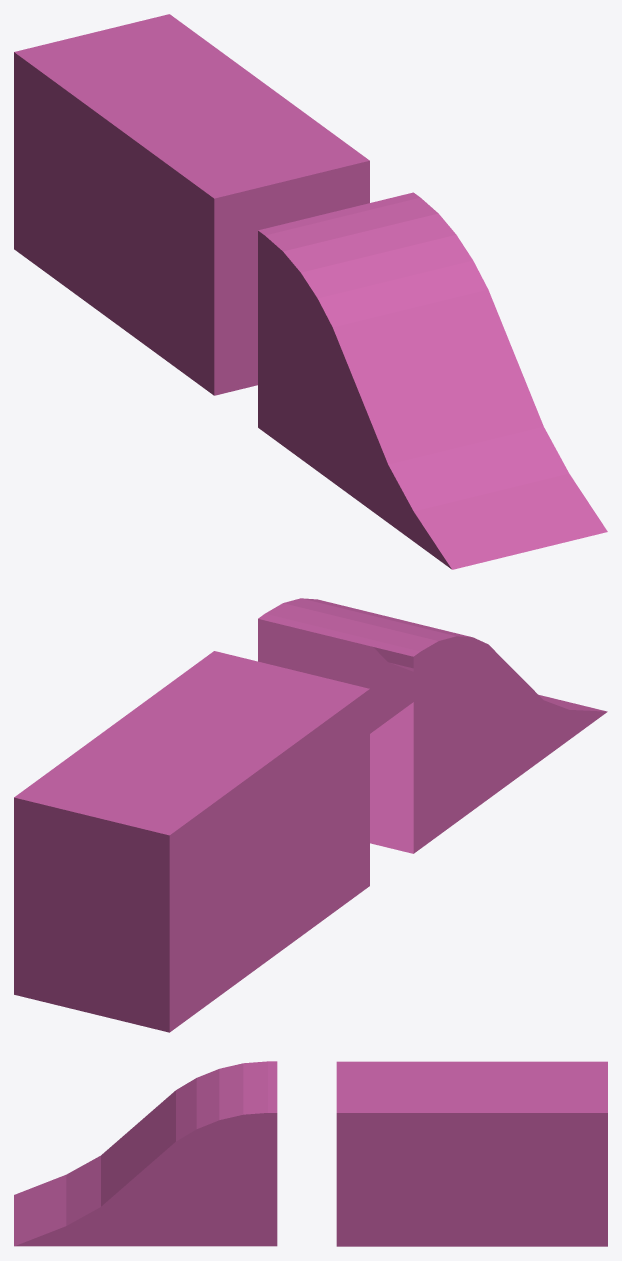
File: Slide.fbx
The picture shows the model from 3 angles, top to bottom: view 1: azimuth 30°, elevation 25°; view 2: azimuth 150°, elevation 25°; view 3: azimuth 270°, elevation 25°; orthographic projection. The views are drawn at different scales.
Visible parts, largest first — view 1: Slide, Slide_1; view 2: Slide, Slide_1; view 3: Slide, Slide_1.
Boxes of the visible parts, box(x1,y1,x2,y2) form: Slide: box(14, 14, 369, 395); Slide_1: box(258, 192, 607, 569); Slide: box(14, 651, 369, 1032); Slide_1: box(258, 598, 607, 853); Slide: box(336, 1061, 607, 1246); Slide_1: box(14, 1061, 277, 1246).
Bounding box in the file's own units: 135 × 164 × 660.
